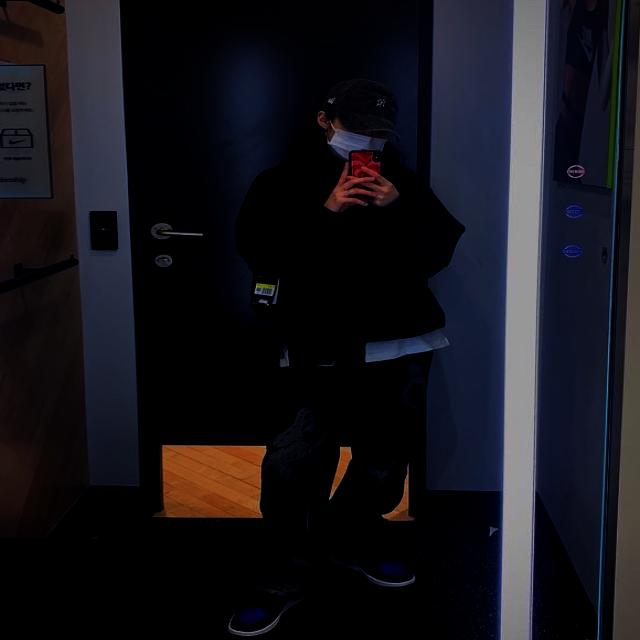denimpants: (256, 347, 432, 596)
mtm: (234, 153, 464, 344)
